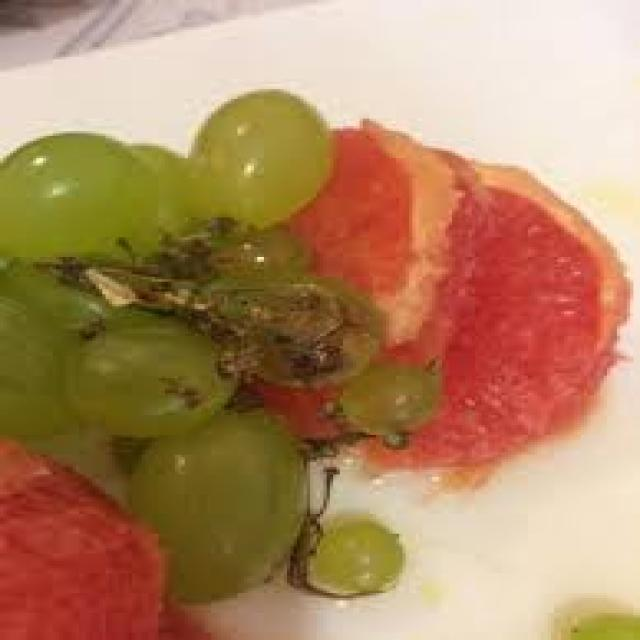biodegradable: (237, 119, 627, 467), (0, 435, 198, 637), (125, 398, 307, 600), (66, 311, 231, 440), (0, 128, 155, 262), (192, 89, 324, 222), (241, 272, 376, 383), (0, 291, 96, 435), (327, 361, 452, 442), (116, 141, 195, 237), (0, 257, 102, 323), (205, 213, 310, 275), (314, 517, 403, 588), (567, 611, 637, 638)
